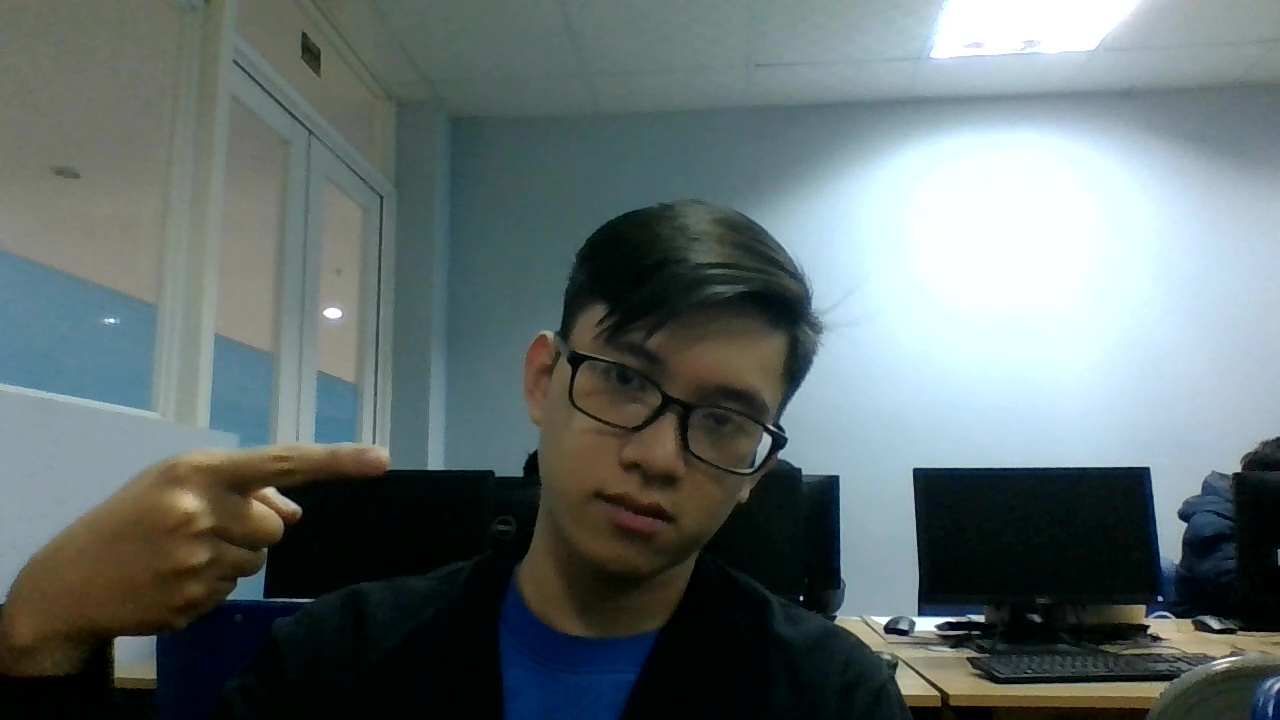left: (1, 440, 398, 637)
